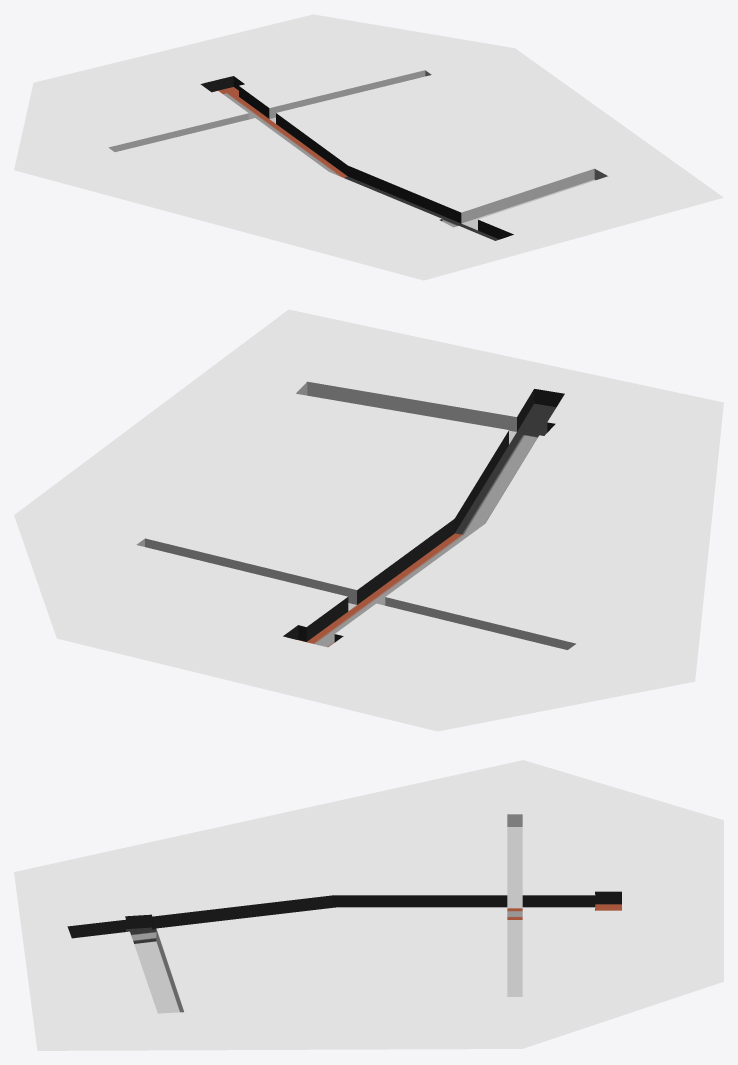
Rendered from underground.obj.
3 renders of one model, top to bottom at view 1: azimuth 30°, elevation 25°; view 2: azimuth 150°, elevation 25°; view 3: azimuth 270°, elevation 25°, orthographic. The views are drawn at different scales.
Parts seen in each view (by area): view 1: Plane.001; view 2: Plane.001; view 3: Plane.001.
Boxes of the visible parts, x1=… form: Plane.001: x1=14, y1=14, x2=723, y2=280; Plane.001: x1=14, y1=309, x2=723, y2=731; Plane.001: x1=14, y1=760, x2=723, y2=1050.
Size of the model in its own units: 4.96 by 0.1027 by 5.11.
1 material, 1 textured.
